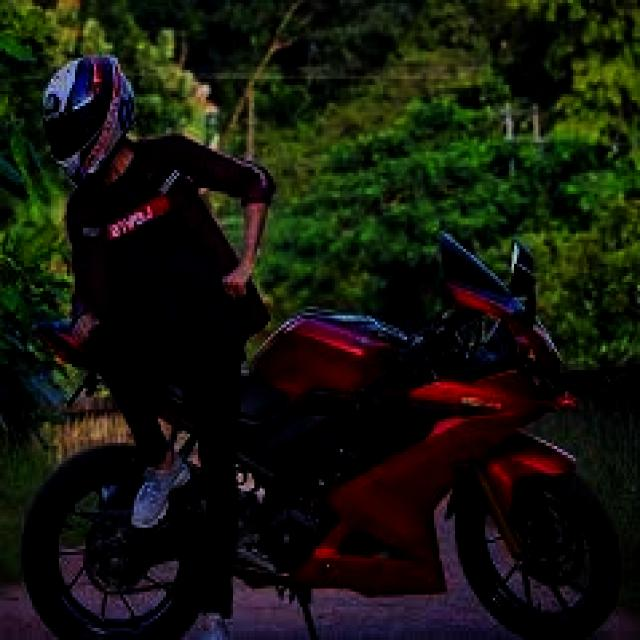helmet: (46, 55, 134, 185)
